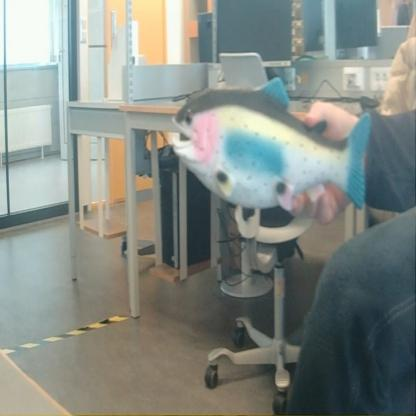rubberfish: (168, 76, 380, 213)
